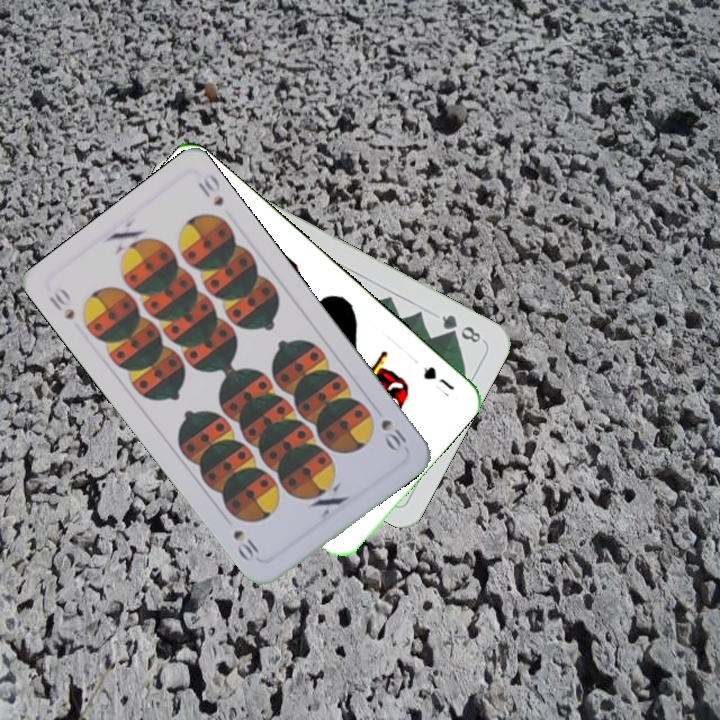G8: (437, 310, 484, 346)
GU: (419, 362, 457, 393)
S10: (376, 415, 410, 455), (45, 284, 78, 322)
